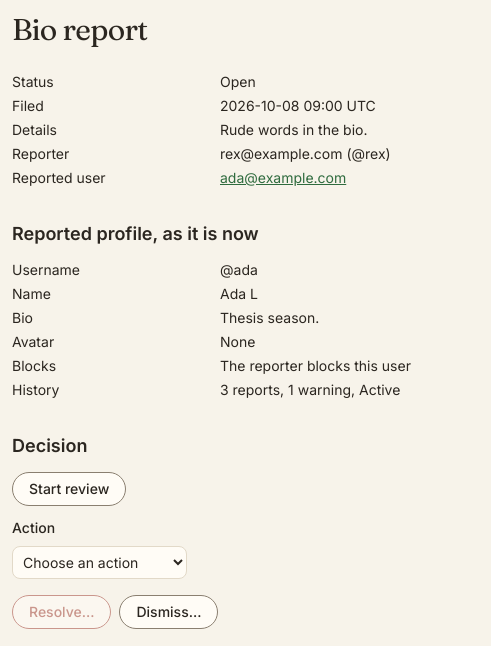
Test case: report detail (D5.1) › starts a review
Step 1. Click the button "Start review" → (69, 489), box 12,472 -> 126,506
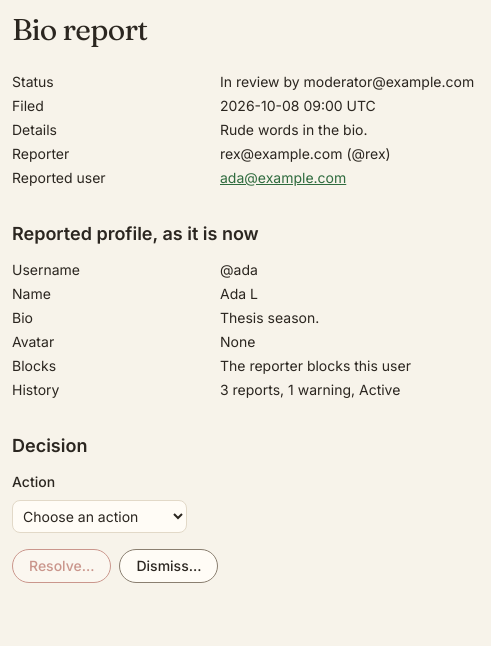
Expected: the text "In review by moderator@example.com" is shown, 220,73 -> 474,90
Expected: the button "Start review" is gone
